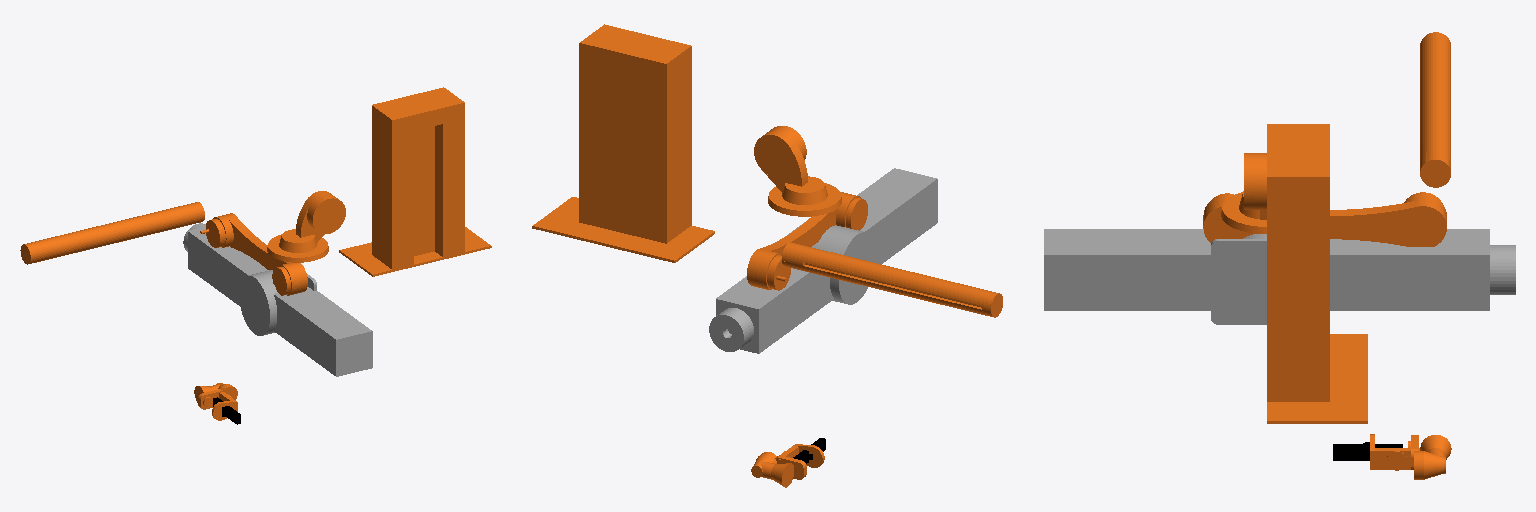
URDF robot description (kr20):
<?xml version="1.0" ?>
<!-- =================================================================================== -->
<!-- |    This document was autogenerated by xacro from kr20.xacro                     | -->
<!-- |    EDITING THIS FILE BY HAND IS NOT RECOMMENDED                                 | -->
<!-- =================================================================================== -->
<robot name="kr20">
  <!-- END - Include -->
  <!-- World frame (for Gazebo) -->
  <link name="world"/>
  <!-- Arm fixed to world frame  -->
  <joint name="world__base" type="fixed">
    <parent link="world"/>
    <child link="base"/>
    <origin rpy="0 0 0" xyz="0 0 0"/>
  </joint>
  <link name="base">
    <inertial>
      <mass value="40"/>
      <origin rpy="0 0 0" xyz="0 0 0"/>
      <inertia ixx="13.235" ixy="0" ixz="0" iyy="13.235" iyz="0" izz="9.655"/>
    </inertial>
    <collision>
      <origin rpy="0 0 0" xyz="0 0 0"/>
      <geometry>
        <mesh filename="package://kuka_kr20_description/meshes/base_co.stl" scale="0.00001 0.00001 0.00001"/>
      </geometry>
    </collision>
    <visual>
      <origin rpy="0 0 0" xyz="0 0 0"/>
      <geometry>
        <mesh filename="package://kuka_kr20_description/meshes/base_co.stl" scale="0.00001 0.00001 0.00001"/>
      </geometry>
      <material name="Orange"/>
    </visual>
  </link>
  <material name="Orange">
    <color rgba="0.95 0.5 0.15 1.0"/>
  </material>
  <material name="Grey">
    <color rgba="0.7 0.7 0.7 1.0"/>
  </material>
  <material name="Black">
    <color rgba="0.0 0.0 0.0 1.0"/>
  </material>
  <gazebo reference="base">
    <material>Gazebo/Black</material>
  </gazebo>
  <gazebo reference="link01">
    <material>Gazebo/Orange</material>
  </gazebo>
  <gazebo reference="link02">
    <material>Gazebo/Orange</material>
  </gazebo>
  <gazebo reference="link03">
    <material>Gazebo/Orange</material>
  </gazebo>
  <gazebo reference="link04">
    <material>Gazebo/Orange</material>
  </gazebo>
  <gazebo reference="link05">
    <material>Gazebo/Orange</material>
  </gazebo>
  <gazebo reference="link06">
    <material>Gazebo/Orange</material>
  </gazebo>
  <gazebo reference="gripper">
    <material>Gazebo/Black</material>
  </gazebo>
  <gazebo reference="gripper_left">
    <material>Gazebo/White</material>
    <mu1>1.0</mu1>
    <mu2>1.0</mu2>
    <kp>1000000.0</kp>
    <kd>1.0</kd>
    <minDepth>0.001</minDepth>
  </gazebo>
  <gazebo reference="gripper_right">
    <material>Gazebo/White</material>
    <mu1>1.0</mu1>
    <mu2>1.0</mu2>
    <kp>1000000.0</kp>
    <kd>1.0</kd>
    <minDepth>0.001</minDepth>
  </gazebo>
  <!-- BEGIN - Robot description -->
  <joint name="base__link01" type="prismatic">
    <axis xyz="0 0 1"/>
    <limit effort="1000" lower="0" upper="0.65" velocity="0.5"/>
    <origin rpy="0 0 1.5708" xyz="-0.9 0 0"/>
    <parent link="base"/>
    <child link="link01"/>
  </joint>
  <transmission name="trans_base__link01">
    <type>transmission_interface/SimpleTransmission</type>
    <joint name="base__link01">
      <hardwareInterface>hardware_interface/PositionJointInterface</hardwareInterface>
    </joint>
    <actuator name="motor_base__link01">
      <hardwareInterface>hardware_interface/PositionJointInterface</hardwareInterface>
      <mechanicalReduction>100</mechanicalReduction>
    </actuator>
  </transmission>
  <link name="link01">
    <inertial>
      <mass value="30.633"/>
      <origin rpy="0 0 0" xyz="0 0 0"/>
      <inertia ixx="13.235" ixy="0" ixz="0" iyy="13.235" iyz="0" izz="9.655"/>
    </inertial>
    <collision>
      <origin rpy="0 0 0" xyz="0 0 0"/>
      <geometry>
        <mesh filename="package://kuka_kr20_description/meshes/base_22.stl" scale="0.00001 0.00001 0.00001"/>
      </geometry>
    </collision>
    <visual>
      <origin rpy="0 0 0" xyz="0 0 0"/>
      <geometry>
        <mesh filename="package://kuka_kr20_description/meshes/base_22.stl" scale="0.00001 0.00001 0.00001"/>
      </geometry>
      <material name="Grey"/>
    </visual>
  </link>
  <joint name="link01__link02" type="revolute">
    <axis xyz="0 0 1"/>
    <limit effort="1000" lower="-3" upper="3" velocity="0.5"/>
    <origin rpy="1.5708 0 3.1416" xyz="0 0 0.3"/>
    <parent link="link01"/>
    <child link="link02"/>
  </joint>
  <transmission name="trans_link01__link02">
    <type>transmission_interface/SimpleTransmission</type>
    <joint name="link01__link02">
      <hardwareInterface>hardware_interface/PositionJointInterface</hardwareInterface>
    </joint>
    <actuator name="motor_link01__link02">
      <hardwareInterface>hardware_interface/PositionJointInterface</hardwareInterface>
      <mechanicalReduction>100</mechanicalReduction>
    </actuator>
  </transmission>
  <link name="link02">
    <inertial>
      <mass value="10.633"/>
      <origin rpy="0 0 0" xyz="0 0 0"/>
      <inertia ixx="13.235" ixy="0" ixz="0" iyy="13.235" iyz="0" izz="9.655"/>
    </inertial>
    <collision>
      <origin rpy="0 0 0" xyz="0 0 0"/>
      <geometry>
        <mesh filename="package://kuka_kr20_description/meshes/link1.stl" scale="0.001 0.001 0.001"/>
      </geometry>
    </collision>
    <visual>
      <origin rpy="0 0 0" xyz="0 0 0"/>
      <geometry>
        <mesh filename="package://kuka_kr20_description/meshes/link1.stl" scale="0.001 0.001 0.001"/>
      </geometry>
      <material name="Orange"/>
    </visual>
  </link>
  <joint name="link02__link03" type="revolute">
    <axis xyz="0 1 0"/>
    <limit effort="1000" lower="-1.5708" upper="1.7453" velocity="0.5"/>
    <origin rpy="1.5708 0 -1.5708" xyz="0.160 -0.095 0.220"/>
    <parent link="link02"/>
    <child link="link03"/>
  </joint>
  <transmission name="trans_link02__link03">
    <type>transmission_interface/SimpleTransmission</type>
    <joint name="link02__link03">
      <hardwareInterface>hardware_interface/PositionJointInterface</hardwareInterface>
    </joint>
    <actuator name="motor_link02__link03">
      <hardwareInterface>hardware_interface/PositionJointInterface</hardwareInterface>
      <mechanicalReduction>100</mechanicalReduction>
    </actuator>
  </transmission>
  <link name="link03">
    <inertial>
      <mass value="20"/>
      <origin rpy="0 0 0" xyz="0 0 0"/>
      <inertia ixx="10" ixy="0" ixz="0" iyy="10" iyz="0" izz="10"/>
    </inertial>
    <collision>
      <origin rpy="0 0 0" xyz="0 0 0"/>
      <geometry>
        <mesh filename="package://kuka_kr20_description/meshes/link2_p.stl" scale="0.0001 0.0001 0.0001"/>
      </geometry>
    </collision>
    <visual>
      <origin rpy="0 0 0" xyz="0 0 0"/>
      <geometry>
        <mesh filename="package://kuka_kr20_description/meshes/link2_p.stl" scale="0.0001 0.0001 0.0001"/>
      </geometry>
      <material name="Orange"/>
    </visual>
  </link>
  <joint name="link03__link04" type="prismatic">
    <axis xyz="1 0 0"/>
    <limit effort="1000" lower="-0.95" upper="0" velocity="0.5"/>
    <origin rpy="0 0 0" xyz="-0.14 0.07 0.830"/>
    <parent link="link03"/>
    <child link="link04"/>
  </joint>
  <transmission name="trans_link03__link04">
    <type>transmission_interface/SimpleTransmission</type>
    <joint name="link03__link04">
      <hardwareInterface>hardware_interface/PositionJointInterface</hardwareInterface>
    </joint>
    <actuator name="motor_link03__link04">
      <hardwareInterface>hardware_interface/PositionJointInterface</hardwareInterface>
      <mechanicalReduction>100</mechanicalReduction>
    </actuator>
  </transmission>
  <link name="link04">
    <inertial>
      <mass value="15"/>
      <origin rpy="0 0 0" xyz="0 0 0"/>
      <inertia ixx="5" ixy="0" ixz="0" iyy="5" iyz="0" izz="5"/>
    </inertial>
    <collision>
      <origin rpy="0 0 0" xyz="0 0 0"/>
      <geometry>
        <mesh filename="package://kuka_kr20_description/meshes/link3_ppp.stl" scale="0.00001 0.00001 0.00001"/>
      </geometry>
    </collision>
    <visual>
      <origin rpy="0 0 0" xyz="0 0 0"/>
      <geometry>
        <mesh filename="package://kuka_kr20_description/meshes/link3_ppp.stl" scale="0.00001 0.00001 0.00001"/>
      </geometry>
      <material name="Orange"/>
    </visual>
  </link>
  <joint name="link04__link05" type="revolute">
    <axis xyz="0 1 0"/>
    <limit effort="1000" lower="-3.0" upper="3.0" velocity="0.5"/>
    <origin rpy="0 1.5708 -1.5708" xyz="1.21 0.001 0.001"/>
    <parent link="link04"/>
    <child link="link05"/>
  </joint>
  <transmission name="trans_link04__link05">
    <type>transmission_interface/SimpleTransmission</type>
    <joint name="link04__link05">
      <hardwareInterface>hardware_interface/PositionJointInterface</hardwareInterface>
    </joint>
    <actuator name="motor_link04__link05">
      <hardwareInterface>hardware_interface/PositionJointInterface</hardwareInterface>
      <mechanicalReduction>100</mechanicalReduction>
    </actuator>
  </transmission>
  <link name="link05">
    <inertial>
      <mass value="2"/>
      <origin rpy="0 0 0" xyz="0 0 0"/>
      <inertia ixx="1" ixy="0" ixz="0" iyy="1" iyz="0" izz="1"/>
    </inertial>
    <collision>
      <origin rpy="0 0 0" xyz="0 0 0"/>
      <geometry>
        <mesh filename="package://kuka_kr20_description/meshes/link4.stl" scale="0.001 0.001 0.001"/>
      </geometry>
    </collision>
    <visual>
      <origin rpy="0 0 0" xyz="0 0 0"/>
      <geometry>
        <mesh filename="package://kuka_kr20_description/meshes/link4.stl" scale="0.001 0.001 0.001"/>
      </geometry>
      <material name="Orange"/>
    </visual>
  </link>
  <joint name="link05__link06" type="revolute">
    <axis xyz="0 -1 0"/>
    <limit effort="1000" lower="-3.0" upper="3.0" velocity="0.5"/>
    <origin rpy="0 0 0" xyz="0.155 0.000 0.000"/>
    <parent link="link05"/>
    <child link="link06"/>
  </joint>
  <transmission name="trans_link05__link06">
    <type>transmission_interface/SimpleTransmission</type>
    <joint name="link05__link06">
      <hardwareInterface>hardware_interface/PositionJointInterface</hardwareInterface>
    </joint>
    <actuator name="motor_link05__link06">
      <hardwareInterface>hardware_interface/PositionJointInterface</hardwareInterface>
      <mechanicalReduction>100</mechanicalReduction>
    </actuator>
  </transmission>
  <link name="link06">
    <inertial>
      <mass value="2"/>
      <origin rpy="0 0 0" xyz="0 0 0"/>
      <inertia ixx="1" ixy="0" ixz="0" iyy="1" iyz="0" izz="1"/>
    </inertial>
    <collision>
      <origin rpy="0 0 0" xyz="0 0 0"/>
      <geometry>
        <mesh filename="package://kuka_kr20_description/meshes/link5.stl" scale="0.001 0.001 0.001"/>
      </geometry>
    </collision>
    <visual>
      <origin rpy="0 0 0" xyz="0 0 0"/>
      <geometry>
        <mesh filename="package://kuka_kr20_description/meshes/link5.stl" scale="0.001 0.001 0.001"/>
      </geometry>
      <material name="Orange"/>
    </visual>
  </link>
  <joint name="link06__gripper" type="revolute">
    <axis xyz="1 0 0"/>
    <limit effort="1000" lower="-1.57" upper="1.57" velocity="0.5"/>
    <origin rpy="0 0 0" xyz="0.115 0 0"/>
    <parent link="link06"/>
    <child link="gripper"/>
  </joint>
  <transmission name="trans_link06__gripper">
    <type>transmission_interface/SimpleTransmission</type>
    <joint name="link06__gripper">
      <hardwareInterface>hardware_interface/PositionJointInterface</hardwareInterface>
    </joint>
    <actuator name="motor_link06__gripper">
      <hardwareInterface>hardware_interface/PositionJointInterface</hardwareInterface>
      <mechanicalReduction>100</mechanicalReduction>
    </actuator>
  </transmission>
  <!-- GRIPPER START HERE -->
  <link name="gripper">
    <inertial>
      <mass value="1"/>
      <origin rpy="0 0 0" xyz="0 0 0"/>
      <inertia ixx="1" ixy="0" ixz="0" iyy="1" iyz="0" izz="1"/>
    </inertial>
    <collision>
      <origin rpy="0 0 0" xyz="0 0 0"/>
      <geometry>
        <mesh filename="package://kuka_kr20_description/meshes/gripper_base.stl" scale="0.001 0.001 0.001"/>
      </geometry>
    </collision>
    <visual>
      <origin rpy="0 0 0" xyz="0 0 0"/>
      <geometry>
        <mesh filename="package://kuka_kr20_description/meshes/gripper_base.stl" scale="0.001 0.001 0.001"/>
      </geometry>
      <material name="Black"/>
    </visual>
  </link>
  <joint name="gripper__gripper_left" type="prismatic">
    <axis xyz="1 0 0"/>
    <limit effort="1000" lower="-0.09" upper="0.0" velocity="0.5"/>
    <origin rpy="0 0 0" xyz="0.04 0.00 0.000"/>
    <parent link="gripper"/>
    <child link="gripper_left"/>
  </joint>
  <transmission name="trans_gripper__gripper_left">
    <type>transmission_interface/SimpleTransmission</type>
    <joint name="gripper__gripper_left">
      <hardwareInterface>hardware_interface/PositionJointInterface</hardwareInterface>
    </joint>
    <actuator name="motor_gripper__gripper_left">
      <hardwareInterface>hardware_interface/PositionJointInterface</hardwareInterface>
      <mechanicalReduction>100</mechanicalReduction>
    </actuator>
  </transmission>
  <link name="gripper_left">
    <inertial>
      <mass value="0.1"/>
      <origin rpy="0 0 0" xyz="0 0 0"/>
      <inertia ixx="1" ixy="0" ixz="0" iyy="1" iyz="0" izz="1"/>
    </inertial>
    <collision>
      <origin rpy="0 0 0" xyz="0 0 0"/>
      <geometry>
        <mesh filename="package://kuka_kr20_description/meshes/gripper_left.stl" scale="0.001 0.001 0.001"/>
      </geometry>
    </collision>
    <visual>
      <origin rpy="0 0 0" xyz="0 0 0"/>
      <geometry>
        <mesh filename="package://kuka_kr20_description/meshes/gripper_left.stl" scale="0.001 0.001 0.001"/>
      </geometry>
      <material name="Grey"/>
    </visual>
  </link>
  <joint name="gripper__gripper_right" type="prismatic">
    <axis xyz="1 0 0"/>
    <limit effort="1000" lower="0.0" upper="0.09" velocity="0.5"/>
    <origin rpy="0 0 0" xyz="0.04 0.00 0.000"/>
    <parent link="gripper"/>
    <child link="gripper_right"/>
  </joint>
  <transmission name="trans_gripper__gripper_right">
    <type>transmission_interface/SimpleTransmission</type>
    <joint name="gripper__gripper_right">
      <hardwareInterface>hardware_interface/PositionJointInterface</hardwareInterface>
    </joint>
    <actuator name="motor_gripper__gripper_right">
      <hardwareInterface>hardware_interface/PositionJointInterface</hardwareInterface>
      <mechanicalReduction>100</mechanicalReduction>
    </actuator>
  </transmission>
  <link name="gripper_right">
    <inertial>
      <mass value="0.1"/>
      <origin rpy="0 0 0" xyz="0 0 0"/>
      <inertia ixx="1" ixy="0" ixz="0" iyy="1" iyz="0" izz="1"/>
    </inertial>
    <collision>
      <origin rpy="0 0 0" xyz="0 0 0"/>
      <geometry>
        <mesh filename="package://kuka_kr20_description/meshes/gripper_right.stl" scale="0.001 0.001 0.001"/>
      </geometry>
    </collision>
    <visual>
      <origin rpy="0 0 0" xyz="0 0 0"/>
      <geometry>
        <mesh filename="package://kuka_kr20_description/meshes/gripper_right.stl" scale="0.001 0.001 0.001"/>
      </geometry>
      <material name="Grey"/>
    </visual>
  </link>
  <!-- GRIPPER END HERE -->
  <!-- END - Robot description -->
  <gazebo>
    <plugin filename="libgazebo_ros_control.so" name="gazebo_ros_control">
      <robotSimType>gazebo_ros_control/DefaultRobotHWSim</robotSimType>
      <robotNamespace>/kr20</robotNamespace>
      <legacyModeNS>true</legacyModeNS>
    </plugin>
  </gazebo>
</robot>

--- Facts derived from the render (not from the file) ---
Views: 3 orthographic renders of the robot side by side, from view 1: azimuth 30°, elevation 25°; view 2: azimuth 150°, elevation 25°; view 3: azimuth 270°, elevation 25°.
Model kr20 with 11 links and 10 joints (5 revolute, 4 prismatic, 1 fixed), rooted at world, posed all joints at 0.
Visible links, largest first — view 1: base, link01, link04, link02, link03, link06; view 2: base, link01, link04, link02, link03, link05, link06; view 3: link01, base, link03, link04, link02, link05, link06, gripper.
Boxes of the visible links, bbox=[...] form: base: bbox=[339, 87, 491, 276]; link01: bbox=[183, 223, 372, 376]; link04: bbox=[20, 202, 204, 264]; link02: bbox=[267, 191, 345, 262]; link03: bbox=[200, 213, 307, 295]; link06: bbox=[198, 389, 237, 420]; base: bbox=[532, 24, 714, 262]; link01: bbox=[709, 168, 937, 353]; link04: bbox=[782, 242, 1002, 317]; link02: bbox=[754, 126, 841, 216]; link03: bbox=[747, 192, 867, 290]; link05: bbox=[751, 452, 793, 487]; link06: bbox=[775, 444, 824, 479]; link01: bbox=[1044, 229, 1515, 324]; base: bbox=[1267, 124, 1367, 423]; link03: bbox=[1203, 192, 1446, 246]; link04: bbox=[1420, 32, 1450, 187]; link02: bbox=[1221, 153, 1266, 233]; link05: bbox=[1414, 435, 1451, 479]; link06: bbox=[1370, 434, 1419, 470]; gripper: bbox=[1333, 442, 1402, 460].
Size in the robot's own frame: 2.82 by 1.88 by 1.93 metres.
Meshes: 10 distinct files referenced, 8 mesh visuals loaded (8 binary STL); not drawn: 2 (reference not matched to a file when rendering).